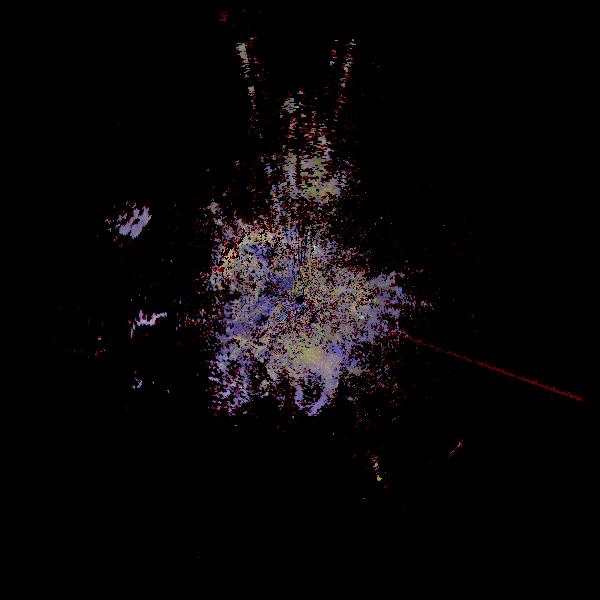roost: (250, 325, 355, 430)
